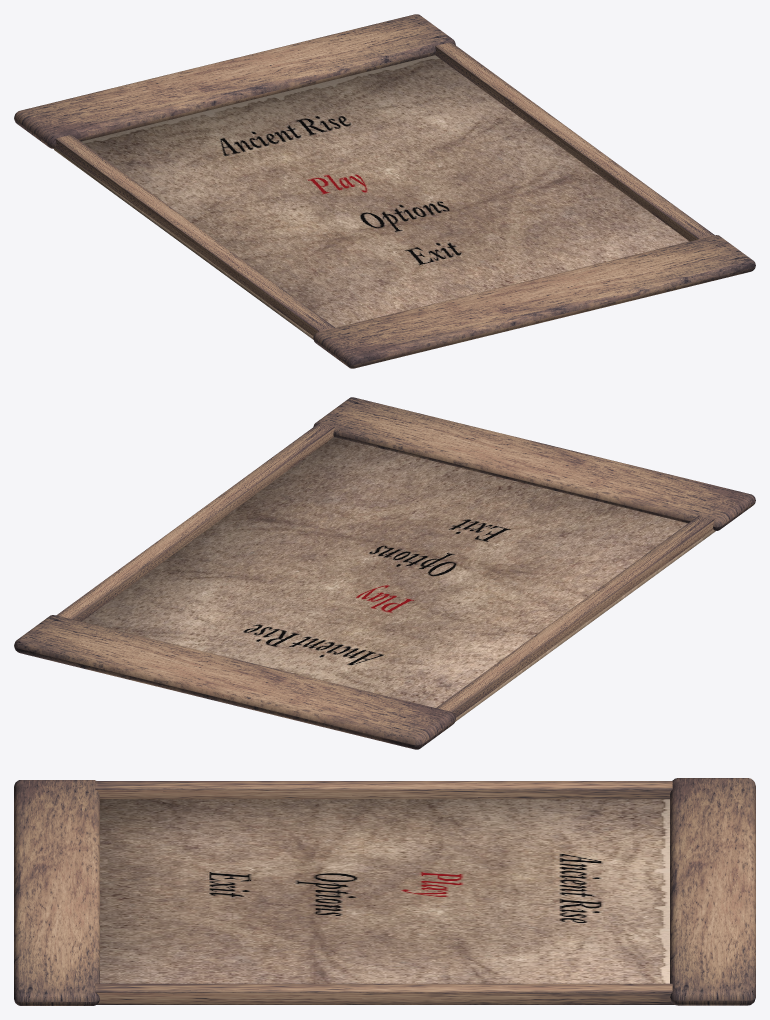
File: Menu1.obj
3 views of the same model, one above another, from view 1: azimuth 30°, elevation 25°; view 2: azimuth 150°, elevation 25°; view 3: azimuth 270°, elevation 25° (orthographic). The views are drawn at different scales.
Parts seen in each view (by area): view 1: Plane001, ChamferBox002, ChamferBox001, ChamferBox003, ChamferBox004; view 2: Plane001, ChamferBox001, ChamferBox002, ChamferBox003, ChamferBox004; view 3: Plane001, ChamferBox001, ChamferBox002, ChamferBox004, ChamferBox003.
Boxes of the visible parts, x1,y1,x2,y2 form: Plane001: (54,55,689,339); ChamferBox002: (313,235,755,368); ChamferBox001: (14,14,455,148); ChamferBox003: (55,134,334,336); ChamferBox004: (435,42,714,241); Plane001: (82,437,715,721); ChamferBox001: (14,615,455,749); ChamferBox002: (313,397,755,530); ChamferBox003: (436,515,714,717); ChamferBox004: (56,423,335,621); Plane001: (100,799,669,983); ChamferBox001: (670,778,755,1005); ChamferBox002: (14,780,99,1005); ChamferBox004: (95,983,674,1004); ChamferBox003: (95,781,672,799).
Size of the model in its own units: 120 by 3.97 by 173.
